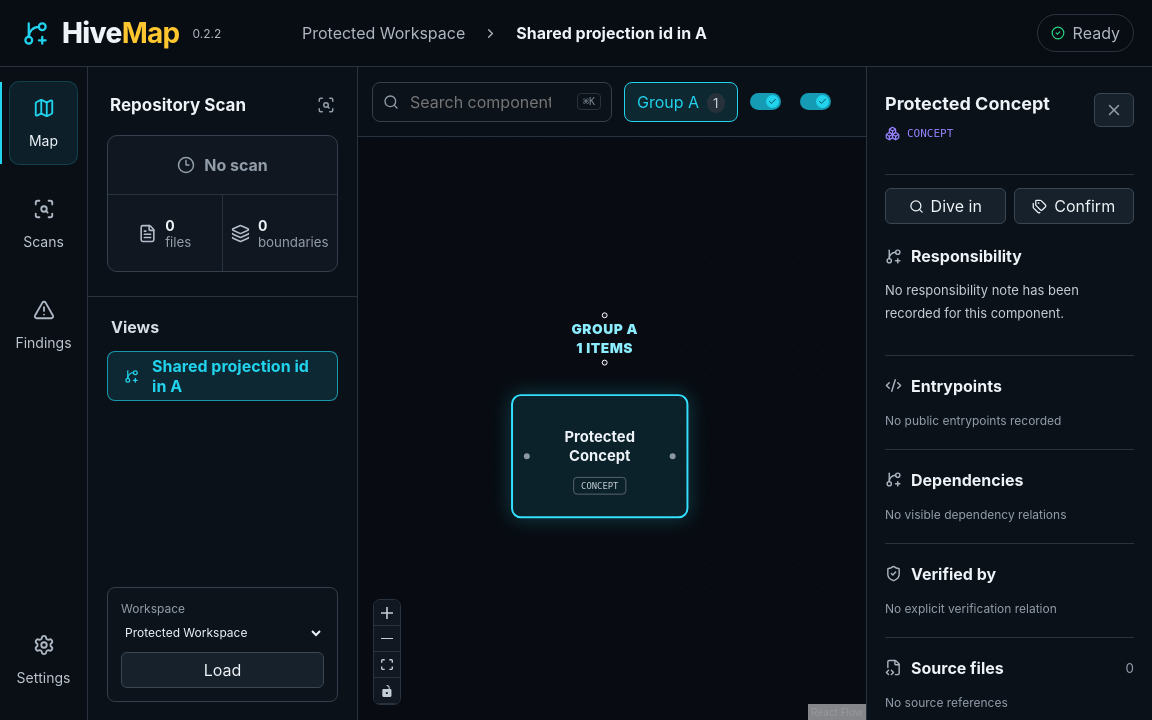
Test: App token lifecycle › resets projection-local filters when another workspace uses the same projection id
Click the button "Group A1".
click(681, 102)  # box [624,82,738,122]
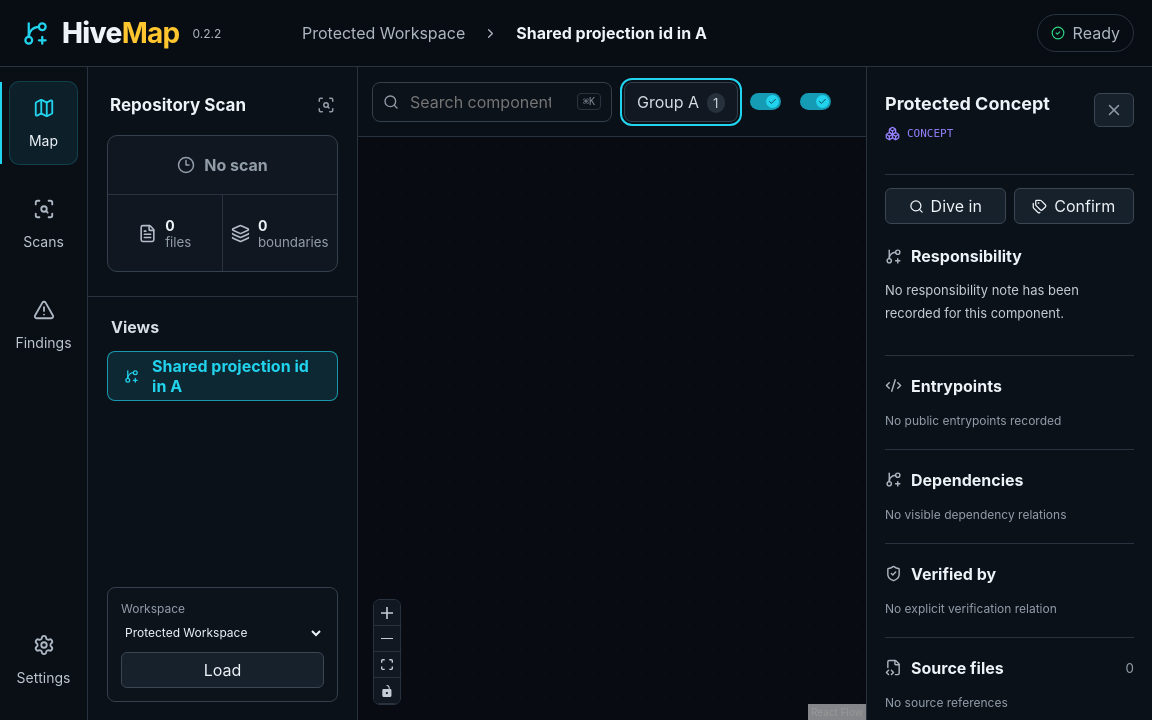
Type "stale filter" into the search field named "Search components".
click(488, 102); type("stale filter")  # box [408,90,568,112]
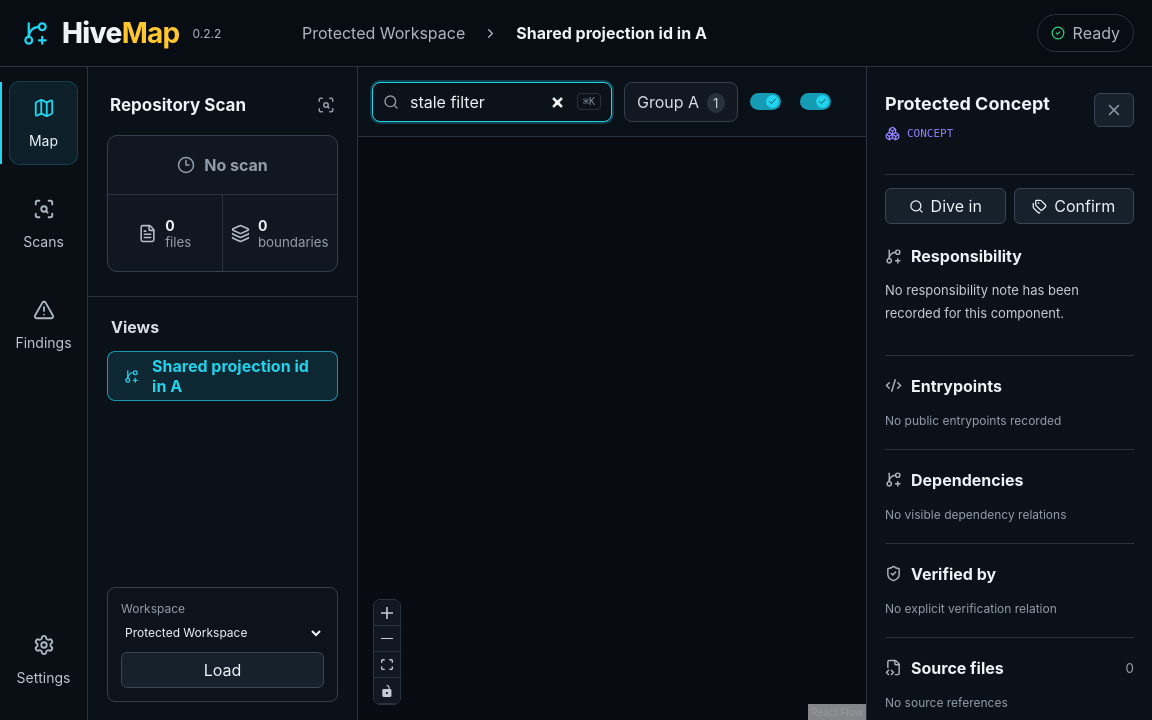
Select "Pending Workspace" in the dropdown labelled "Workspace" at (222, 633), box [121,623,324,643]
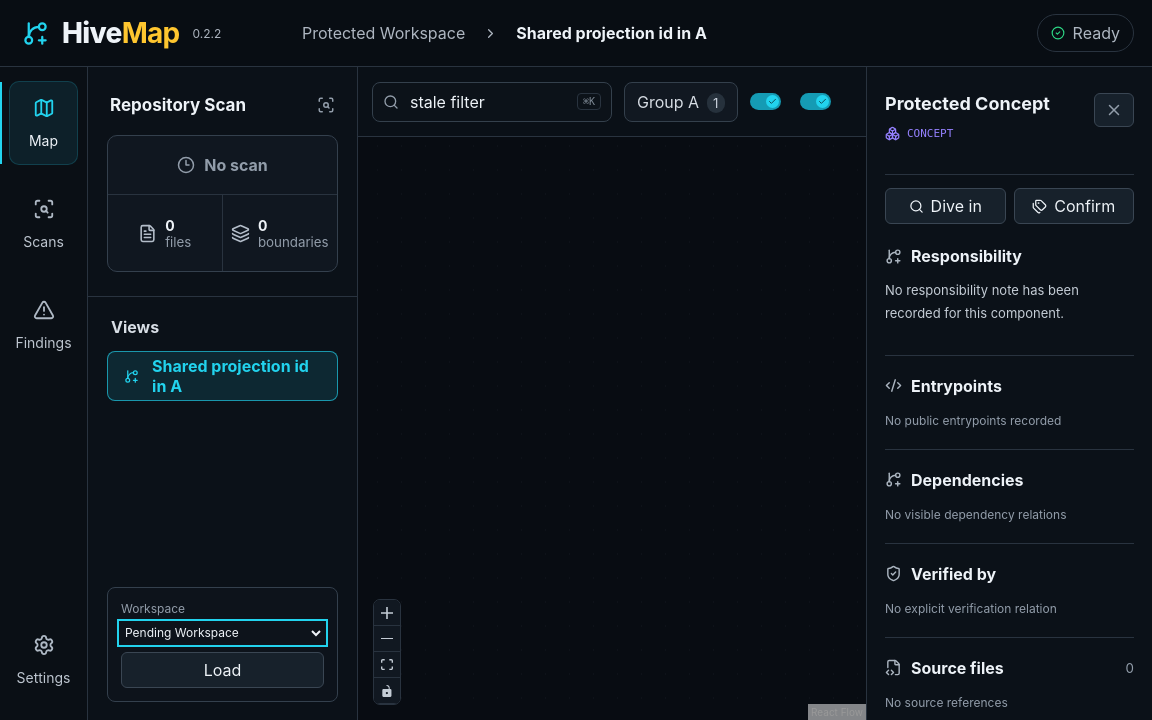
Click the button "Load".
click(222, 670)  # box [121,652,324,688]
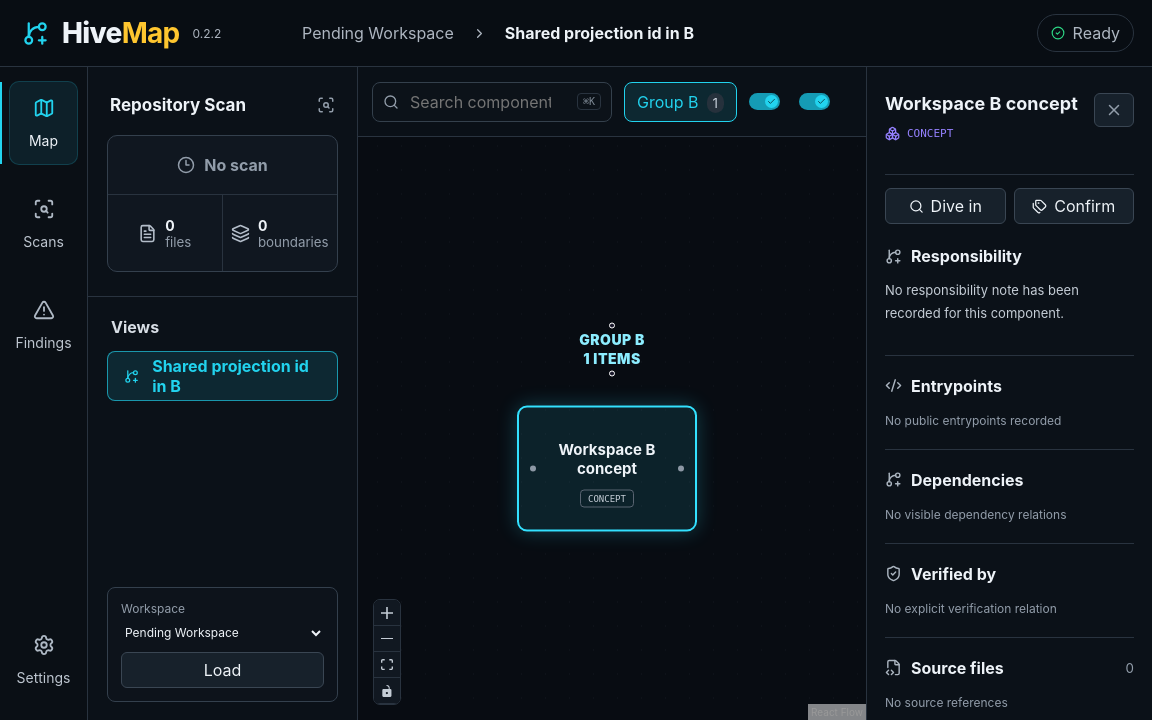
Expected: the search field named "Search components" is empty, [408,90,568,112]
Expected: the text "Workspace B concept" below "Group B 1 items" is shown, [558,440,656,478]
